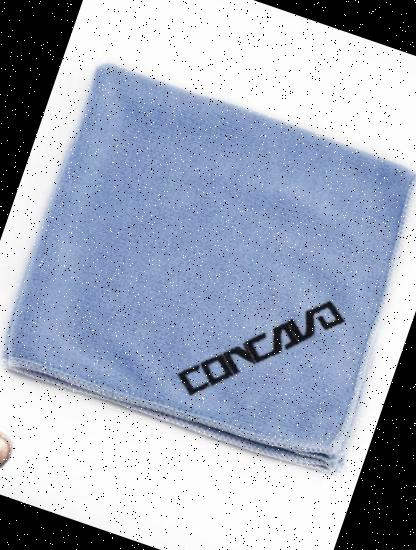Hazelnut: (0, 415, 21, 484)
